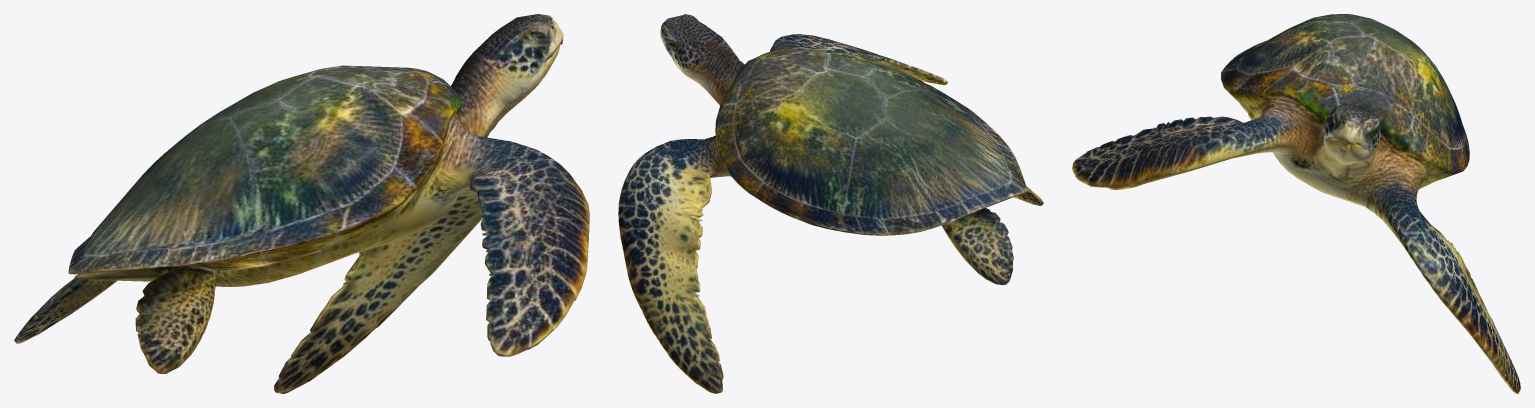
The model's file is sea_turtle.glb.
The picture shows the model from 3 angles, left to right: view 1: azimuth 30°, elevation 25°; view 2: azimuth 150°, elevation 25°; view 3: azimuth 270°, elevation 25°; orthographic projection. The views are drawn at different scales.
Parts seen in each view (by area): view 1: node_0; view 2: node_0; view 3: node_0.
Part boxes in pixels (box(x1,y1,x2,y2)): node_0: box(14, 14, 589, 393); node_0: box(618, 14, 1043, 393); node_0: box(1072, 14, 1520, 393).
Bounding box in the file's own units: 0.9656 × 0.7403 × 0.8828.
1 material, 1 textured.
